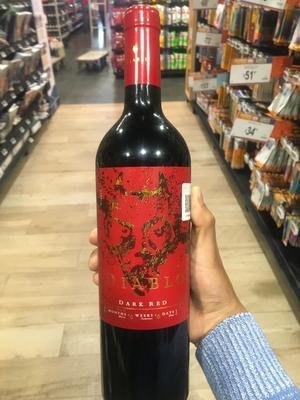diablo dark red: (94, 5, 199, 400)
